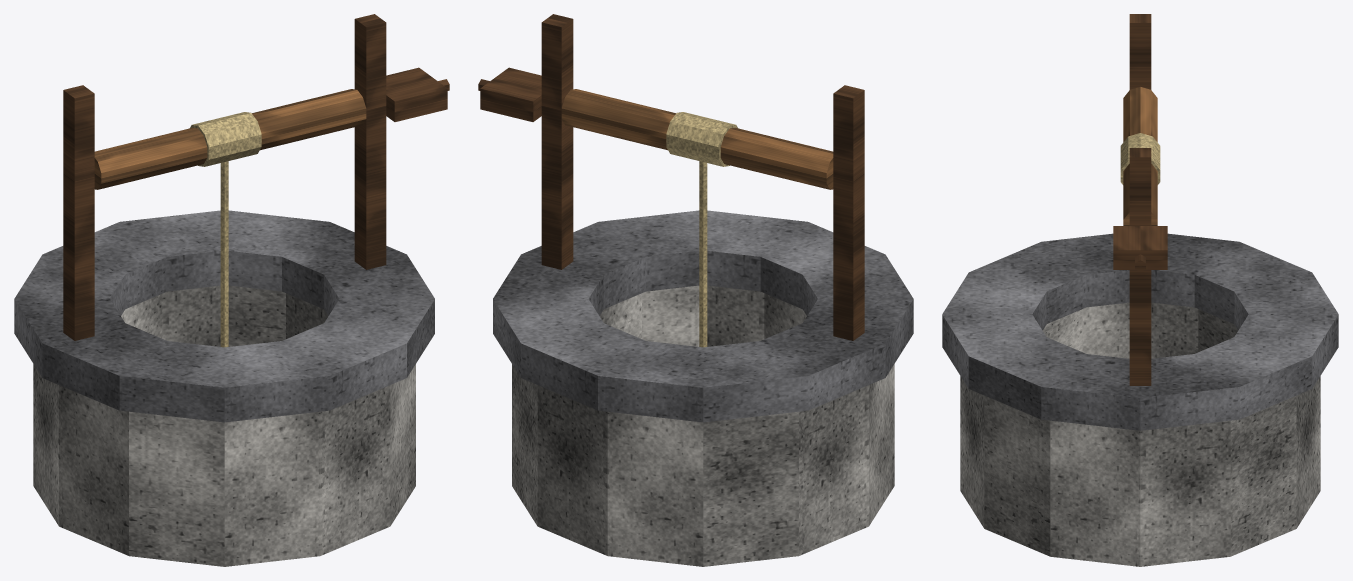
The model's file is village_well.fbx.
3 views of the same model, side by side, from view 1: azimuth 30°, elevation 25°; view 2: azimuth 150°, elevation 25°; view 3: azimuth 270°, elevation 25° (orthographic). The views are drawn at different scales.
Parts seen in each view (by area): view 1: village_well; view 2: village_well; view 3: village_well.
Part boxes in pixels (bbox=[...]): village_well: bbox=[14, 14, 449, 566]; village_well: bbox=[478, 14, 913, 566]; village_well: bbox=[942, 14, 1338, 566].
Bounding box in the file's own units: 122 × 124 × 110.
